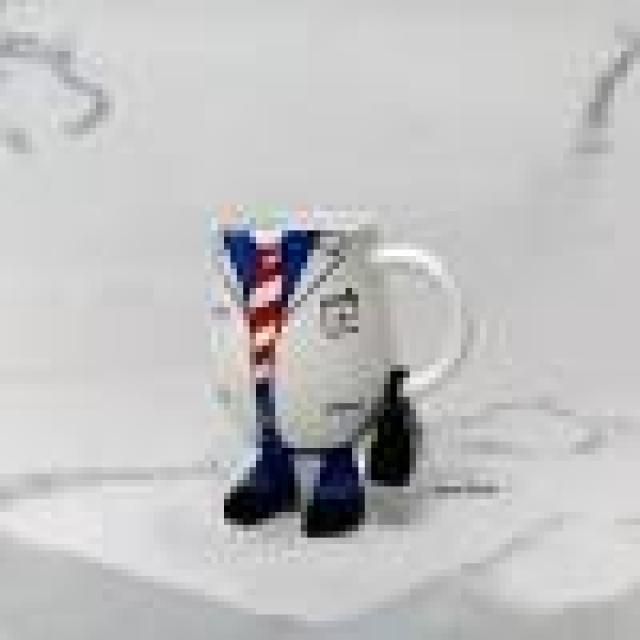taza: (188, 197, 474, 546)
